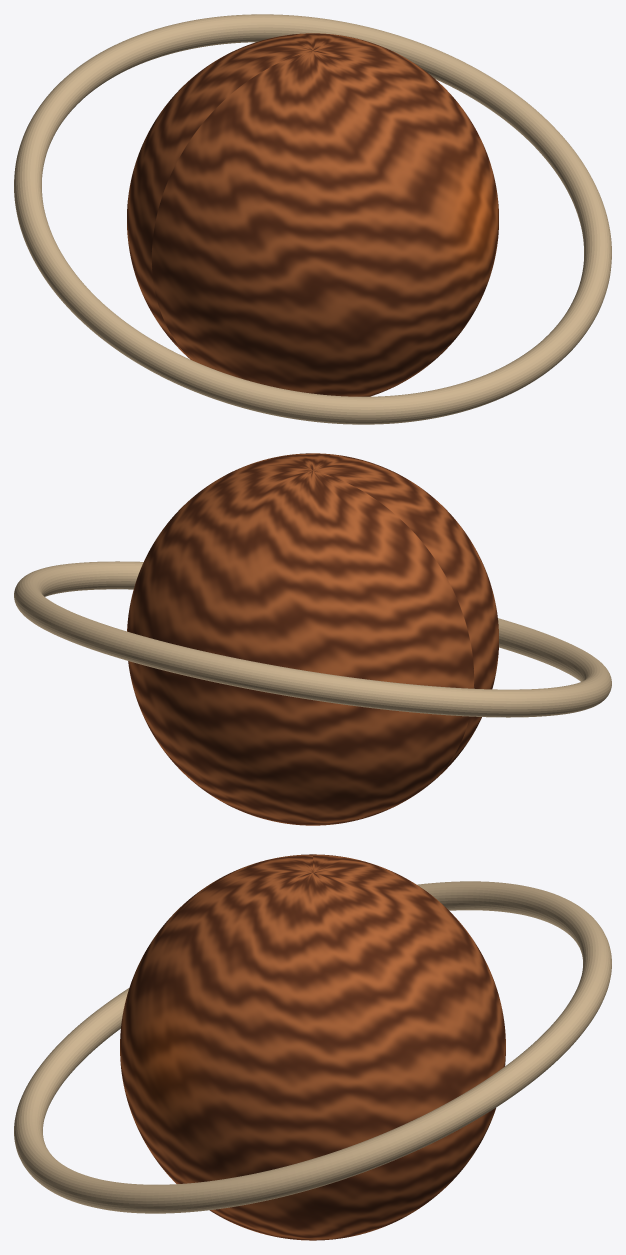
File: planet_helios_gas.glb
The picture shows the model from 3 angles, top to bottom: view 1: azimuth 30°, elevation 25°; view 2: azimuth 150°, elevation 25°; view 3: azimuth 270°, elevation 25°; orthographic projection. The views are drawn at different scales.
Visible parts, largest first — view 1: Helios_Gas_Giant_SurfaceAndRings; view 2: Helios_Gas_Giant_SurfaceAndRings; view 3: Helios_Gas_Giant_SurfaceAndRings.
Part boxes in pixels (<box>): Helios_Gas_Giant_SurfaceAndRings: <box>14,14,611,424</box>; Helios_Gas_Giant_SurfaceAndRings: <box>14,453,611,825</box>; Helios_Gas_Giant_SurfaceAndRings: <box>14,854,611,1240</box>.
Size of the model in its own units: 585 by 360 by 558.
Materials: 2 (1 with a texture image).
